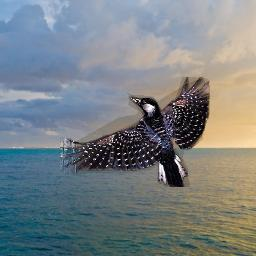Woodpecker: (60, 77, 210, 187)
